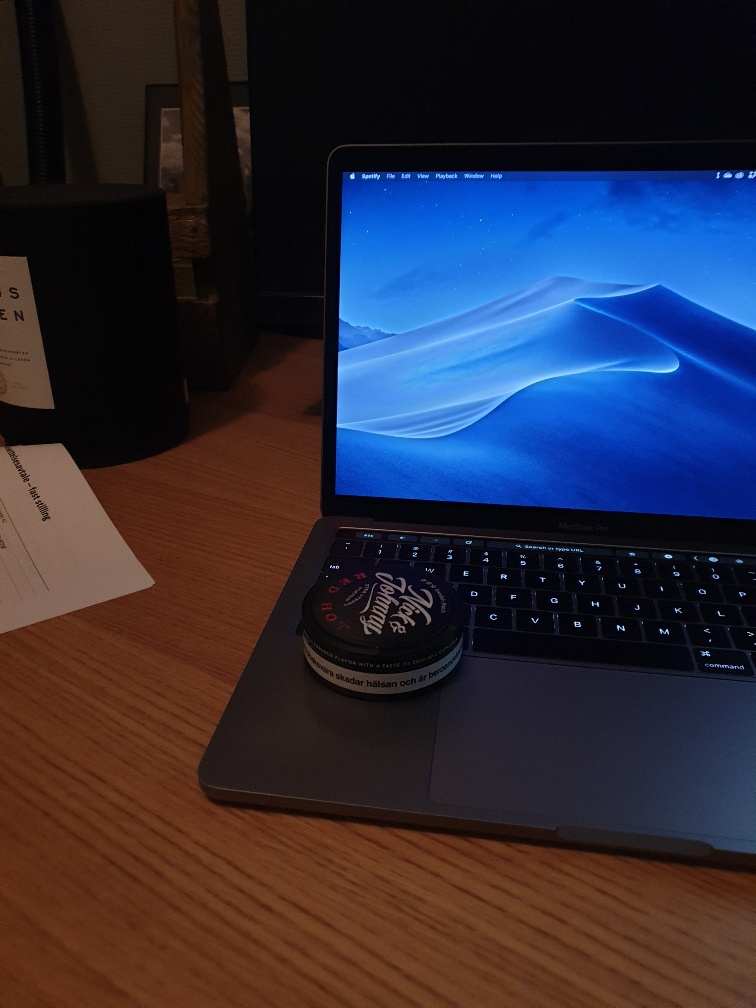snus: (296, 558, 474, 706)
